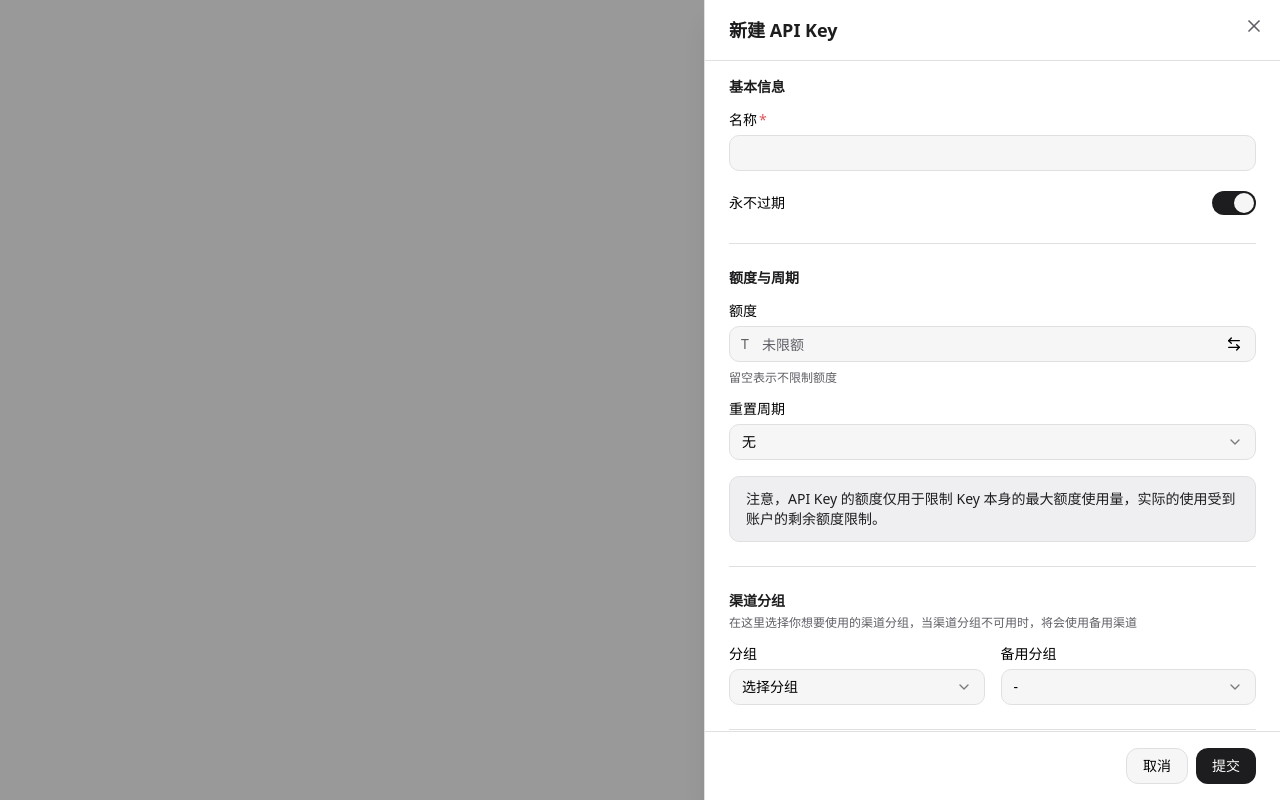
it: TokenSheet model limit › blocks saving when the limit is on with no model selected
Type "agent key" into the field with id "token-name" at (992, 153), box 729,135 -> 1256,171
(page scrolled)
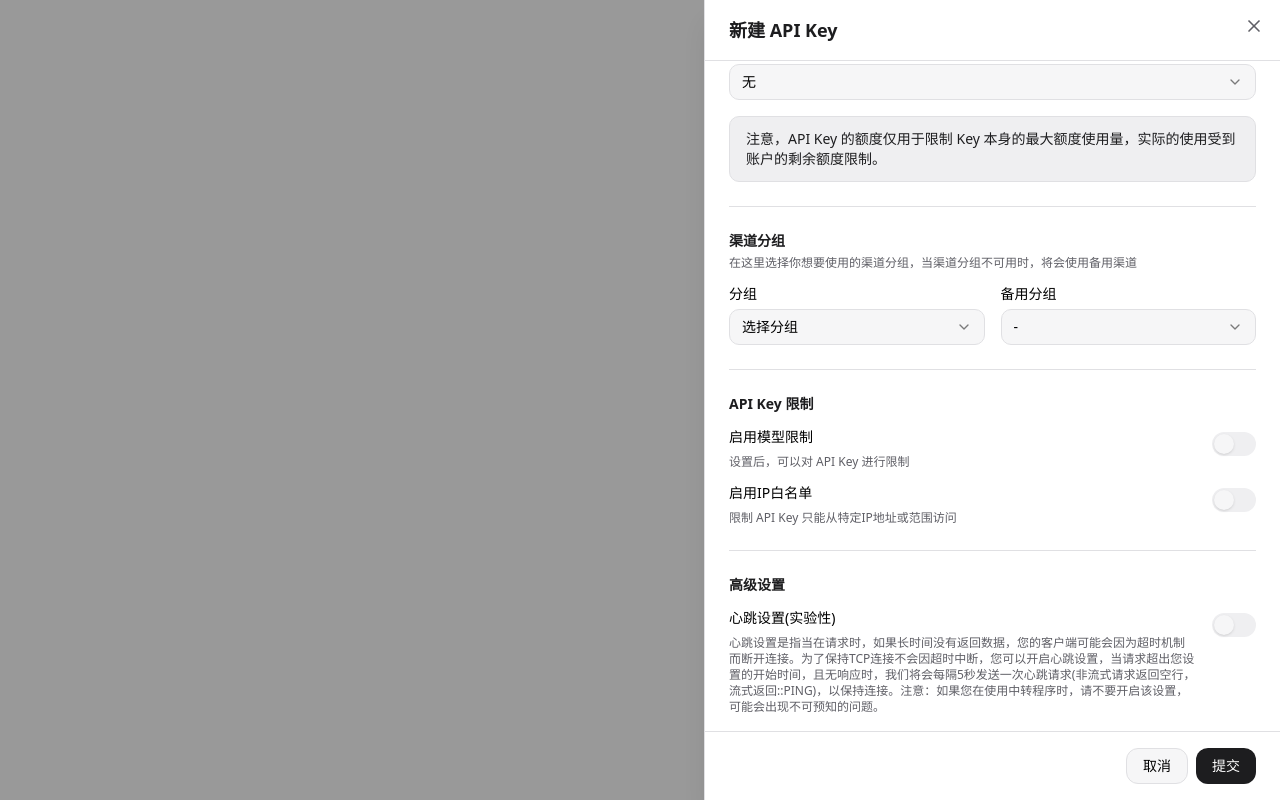
Click the switch in the row of "设置后，可以对 API Key 进行限制" at (1234, 444), box 1212,432 -> 1256,456
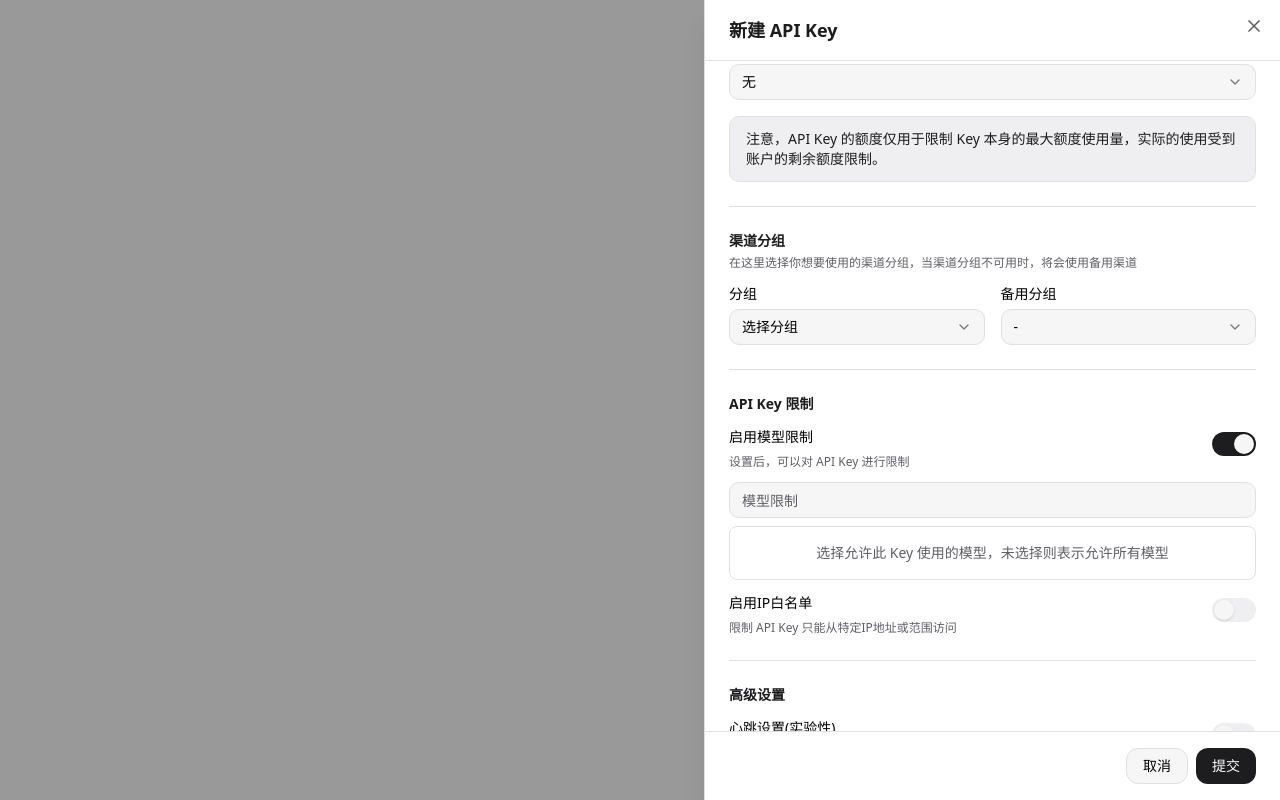
Click the button "提交" at (1226, 766), box 1196,748 -> 1256,784
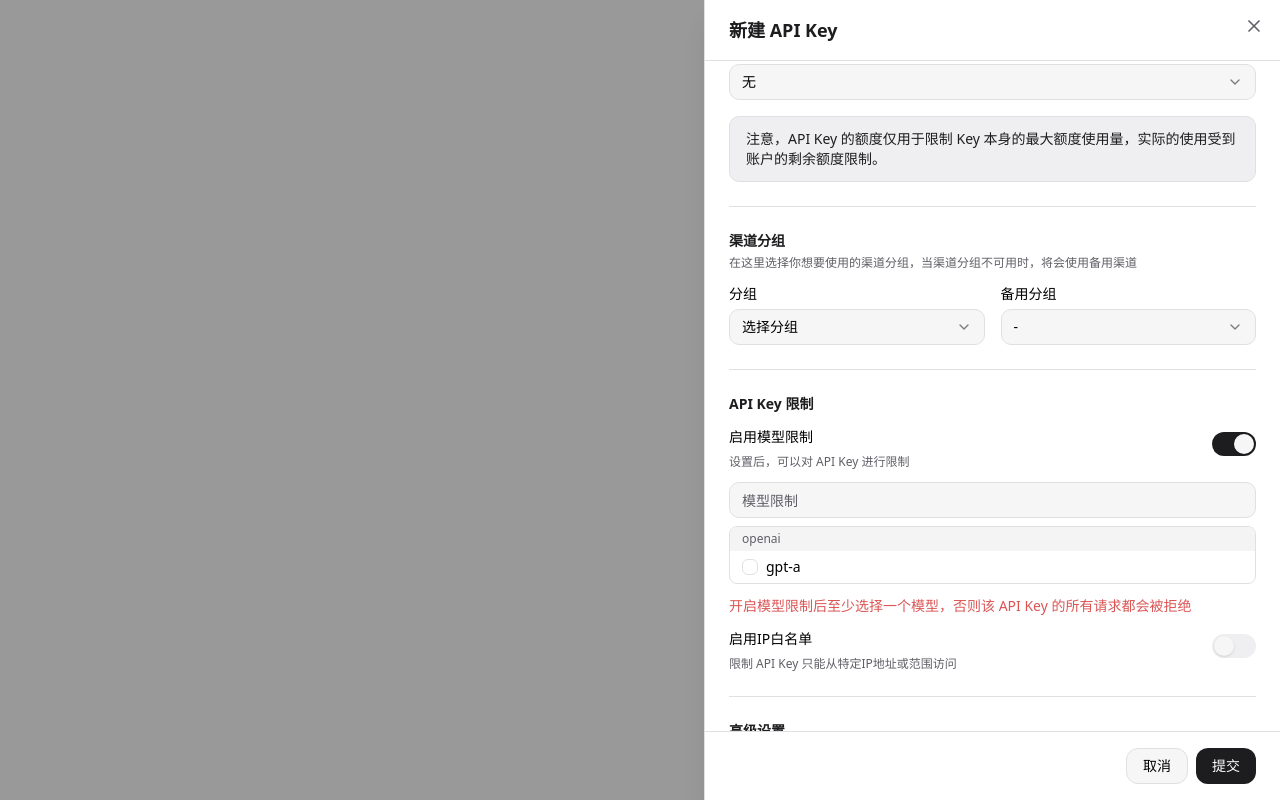
Expected: the text "开启模型限制后至少选择一个模型，否则该 API Key 的所有请求都会被拒绝" is shown, 729,596 -> 1256,616
